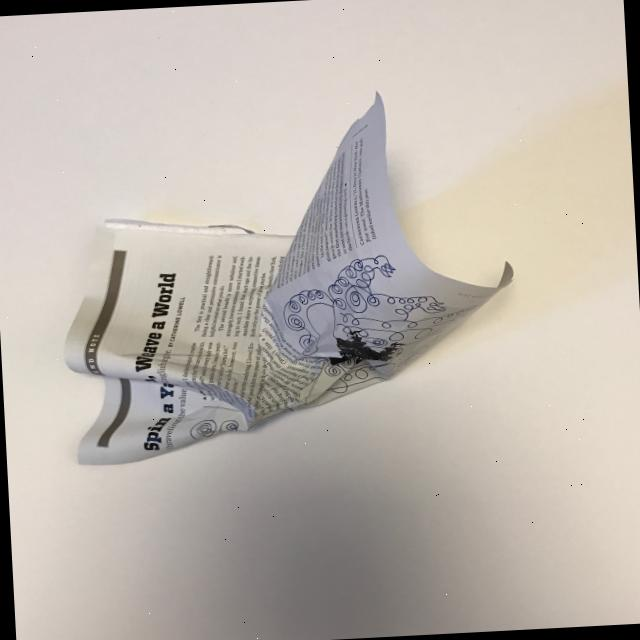paper: (51, 84, 523, 466)
